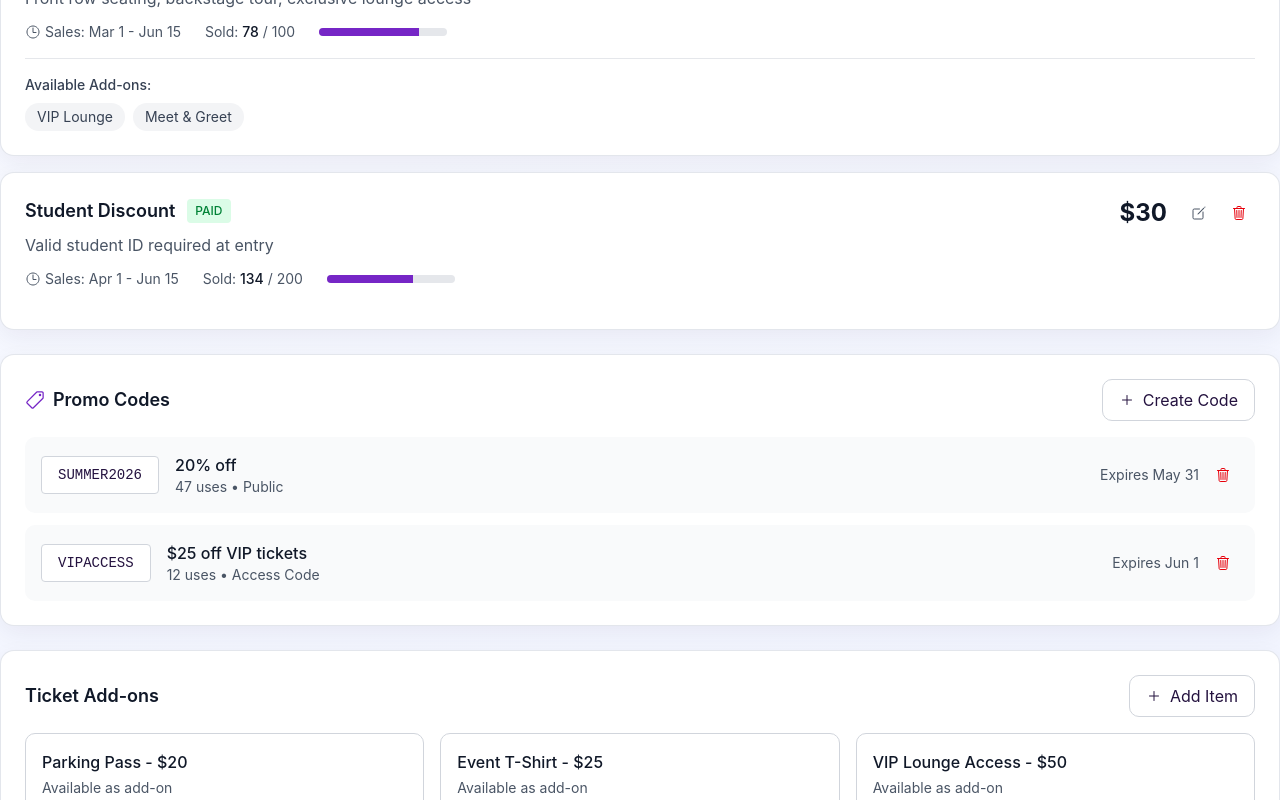
TicketingSection modal flows › opens Create Code form as a modal
The image size is (1280, 800).
(page scrolled)
What coordinates should you click on to do the following:
click the button "Create Code"
I would click on:
 (1178, 400)
Its box is [1102, 379, 1255, 421].
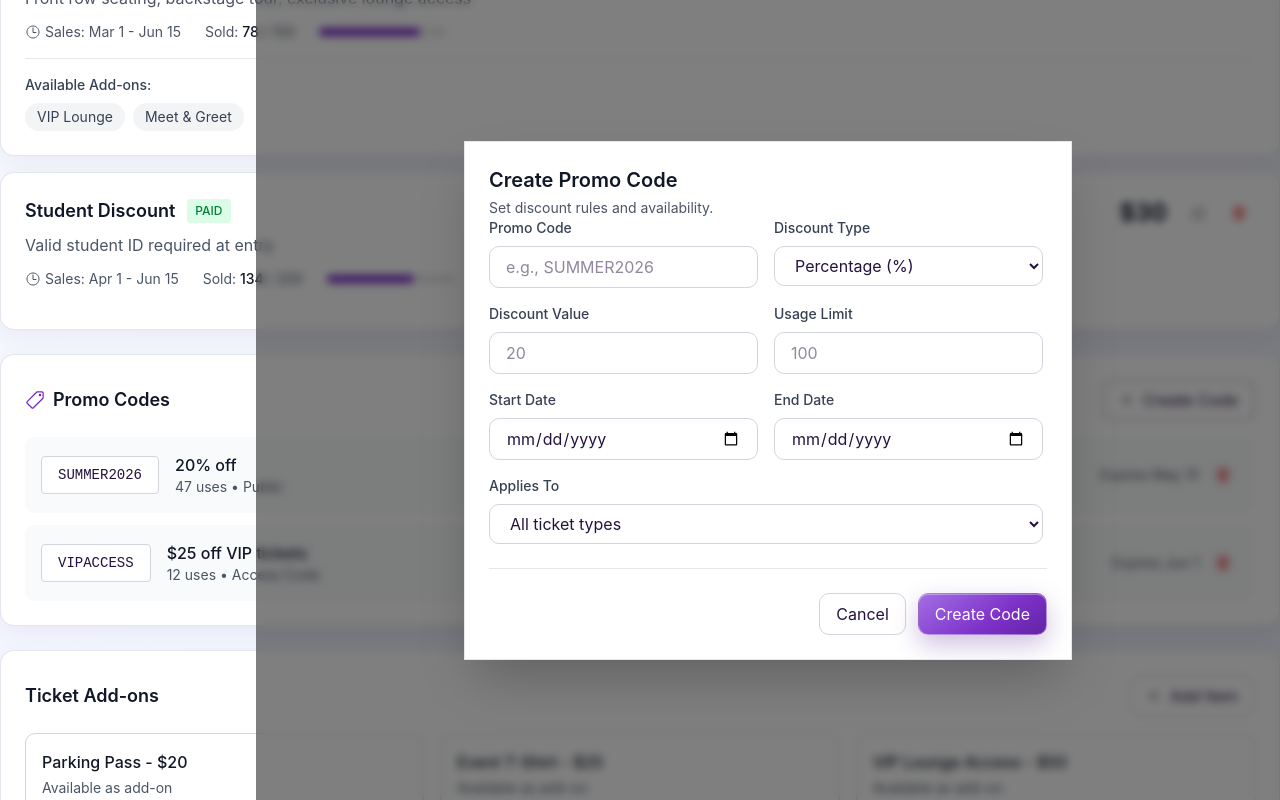
Check: the heading "Create Promo Code" is shown, box [489, 168, 678, 192]
Check: the field with placeholder "e.g., SUMMER2026" is shown, box [489, 246, 758, 288]
Check: the element with class "ticketing-modal-backdrop" is shown
